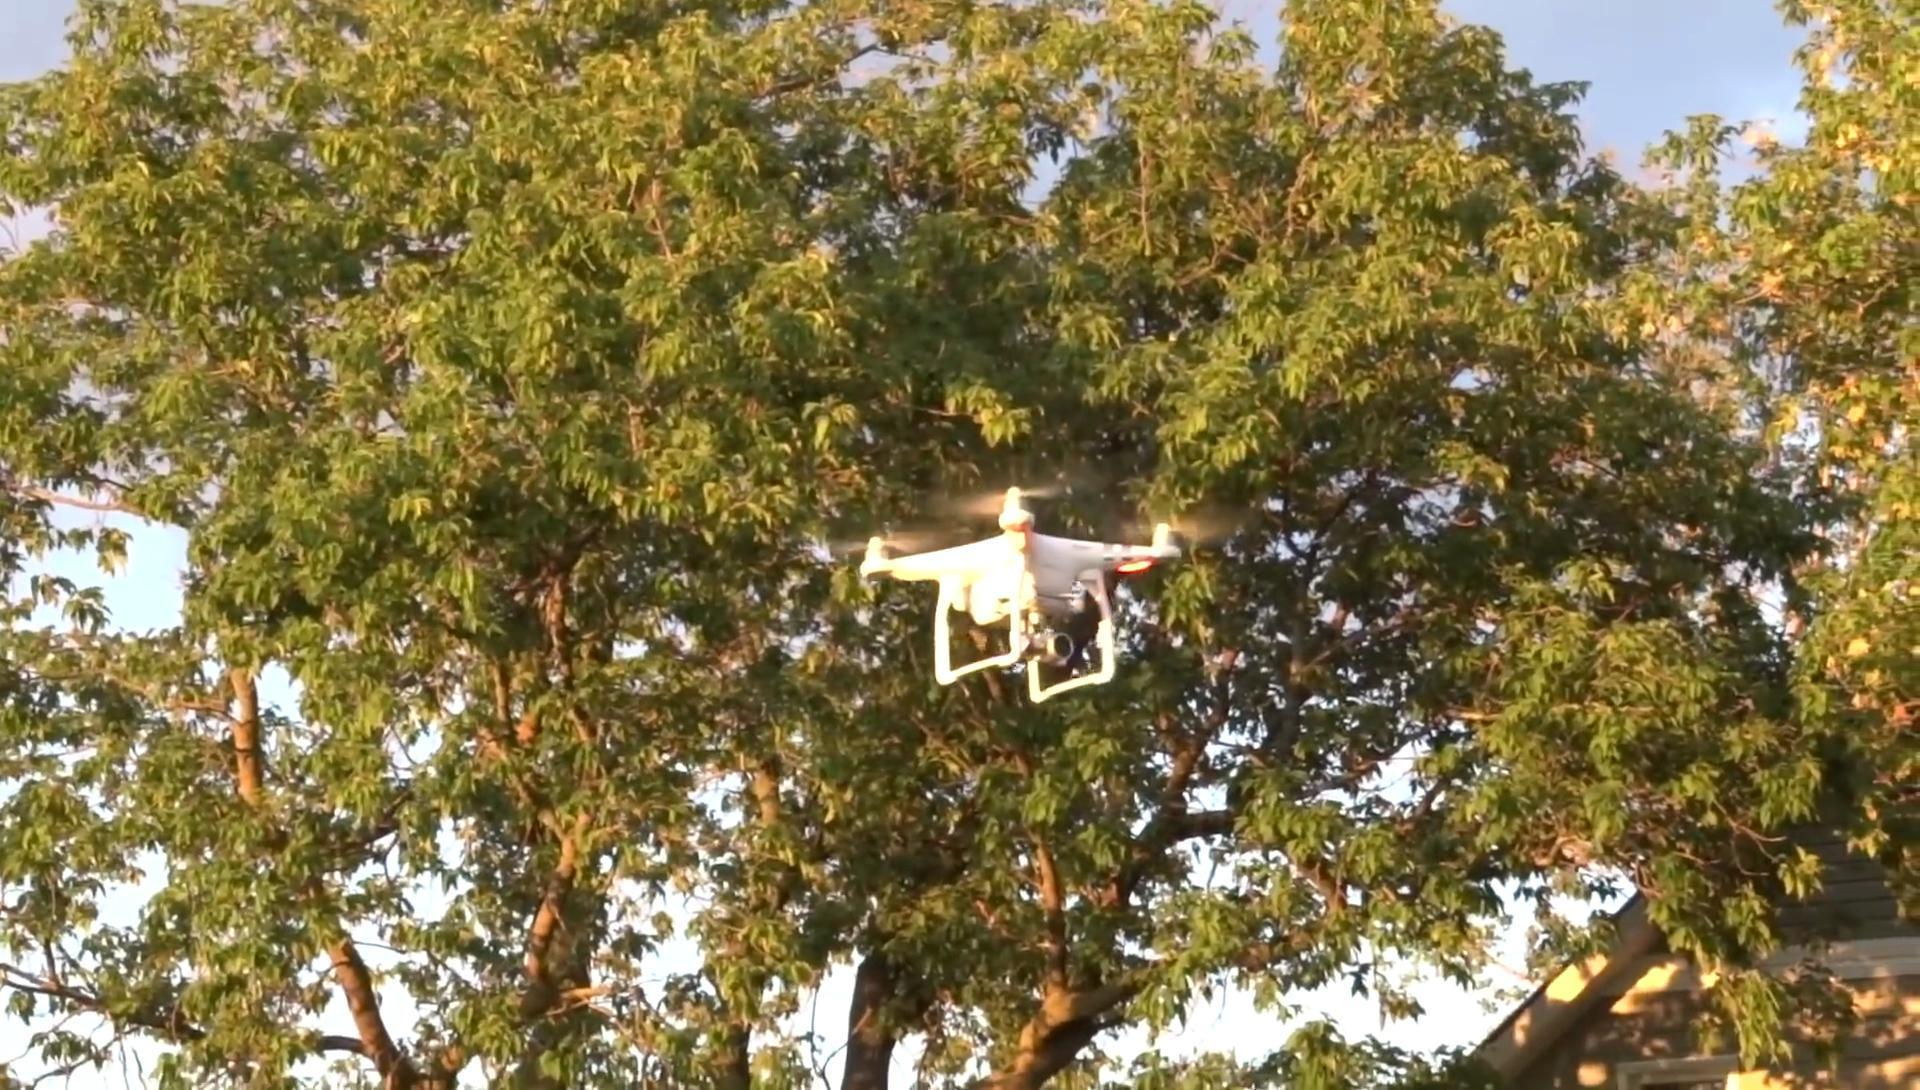drone: (851, 472, 1185, 705)
